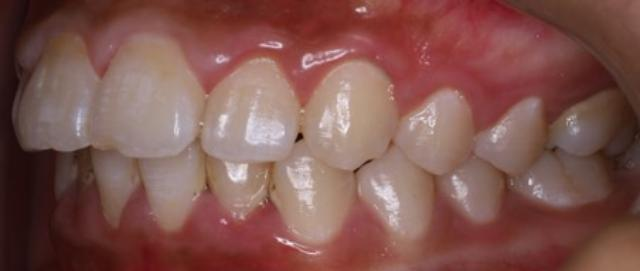canine class II 1/4: (269, 59, 437, 256)
molar class III 1/2: (510, 77, 640, 219)
